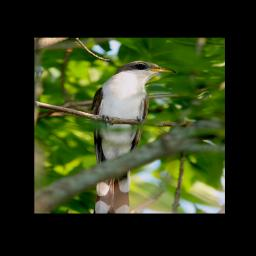Cuckoo: (89, 59, 178, 213)
